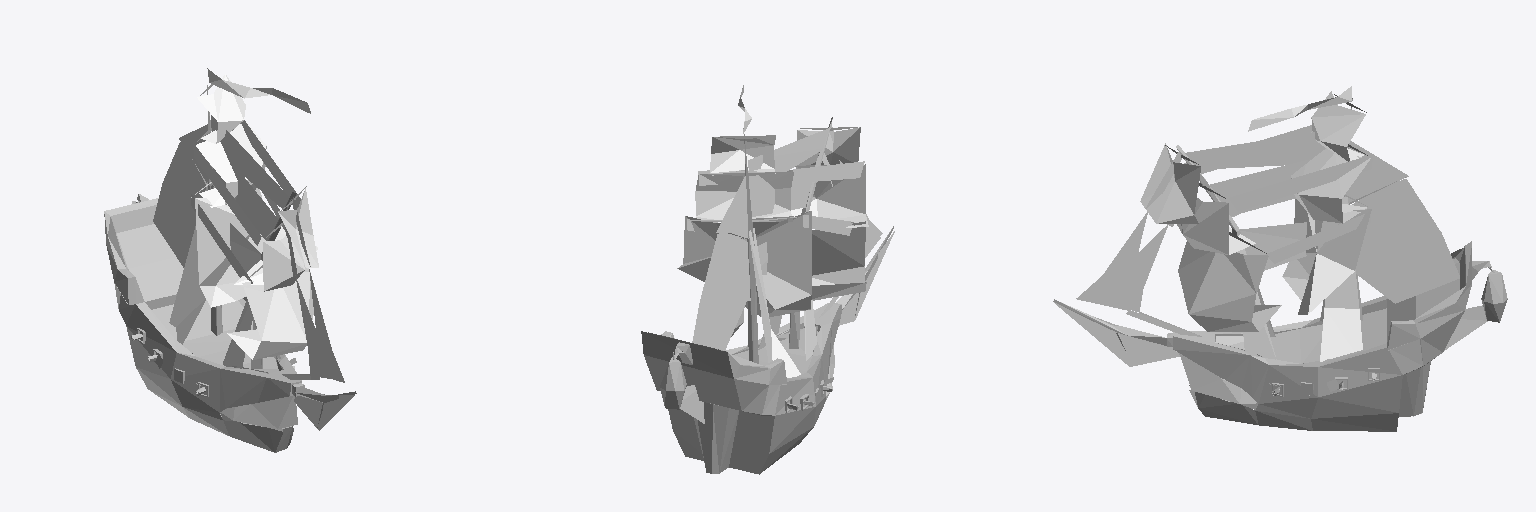
File: ShipGhost.obj
3 views of the same model, side by side, from view 1: azimuth 30°, elevation 25°; view 2: azimuth 150°, elevation 25°; view 3: azimuth 270°, elevation 25° (orthographic).
Parts seen in each view (by area): view 1: Sails_Plane, Ship_Cube.001; view 2: Sails_Plane, Ship_Cube.001; view 3: Sails_Plane, Ship_Cube.001.
Boxes of the visible parts, box(x1,y1,x2,y2) form: Sails_Plane: box(153, 68, 354, 430); Ship_Cube.001: box(104, 77, 356, 452); Sails_Plane: box(677, 85, 894, 423); Ship_Cube.001: box(641, 117, 893, 474); Sails_Plane: box(1054, 86, 1487, 409); Ship_Cube.001: box(1053, 94, 1507, 431).
Size of the model in its own units: 555 by 1133 by 1422.